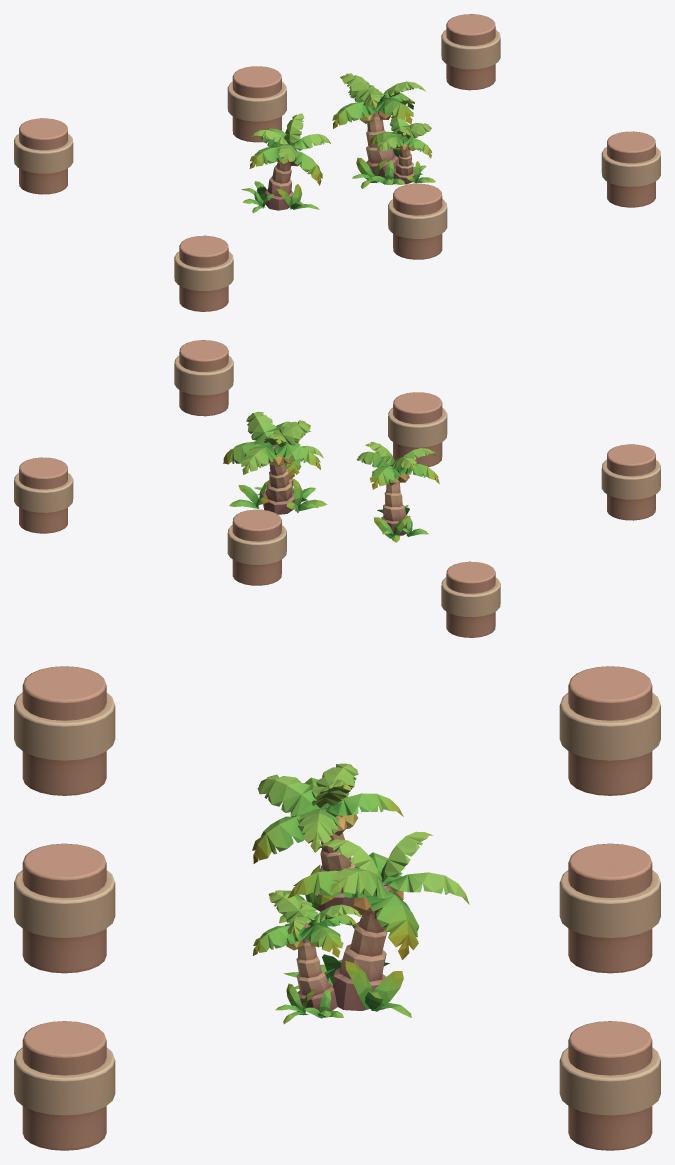
The model's file is Props.fbx.
The picture shows the model from 3 angles, top to bottom: view 1: azimuth 30°, elevation 25°; view 2: azimuth 150°, elevation 25°; view 3: azimuth 270°, elevation 25°; orthographic projection. The views are drawn at different scales.
Visible parts, largest first — view 1: yezishu01, yezishu02, Cylinder (1), Cylinder (5), Cylinder (4), Cylinder (6), Cylinder (3), Cylinder (2); view 2: yezishu01, Cylinder (2), Cylinder (6), Cylinder (3), Cylinder (5), Cylinder (4), Cylinder (1), yezishu02; view 3: yezishu01, Cylinder (3), Cylinder (4), Cylinder (1), Cylinder (2), Cylinder (5), Cylinder (6), yezishu02.
Part boxes in pixels (x1=…): yezishu01: x1=332, y1=73, x2=435, y2=188; yezishu02: x1=241, y1=113, x2=330, y2=213; Cylinder (1): x1=388, y1=183, x2=447, y2=259; Cylinder (5): x1=174, y1=235, x2=233, y2=311; Cylinder (4): x1=441, y1=14, x2=500, y2=90; Cylinder (6): x1=14, y1=118, x2=73, y2=194; Cylinder (3): x1=601, y1=131, x2=660, y2=207; Cylinder (2): x1=227, y1=66, x2=286, y2=142; yezishu01: x1=223, y1=411, x2=326, y2=514; Cylinder (2): x1=227, y1=509, x2=286, y2=585; Cylinder (6): x1=441, y1=561, x2=500, y2=637; Cylinder (3): x1=174, y1=340, x2=233, y2=416; Cylinder (5): x1=601, y1=444, x2=660, y2=520; Cylinder (4): x1=14, y1=457, x2=73, y2=533; Cylinder (1): x1=388, y1=392, x2=447, y2=467; yezishu02: x1=356, y1=442, x2=439, y2=542; yezishu01: x1=253, y1=831, x2=469, y2=1024; Cylinder (3): x1=14, y1=1021, x2=115, y2=1150; Cylinder (4): x1=559, y1=1021, x2=660, y2=1150; Cylinder (1): x1=14, y1=843, x2=115, y2=973; Cylinder (2): x1=559, y1=843, x2=660, y2=973; Cylinder (5): x1=14, y1=666, x2=115, y2=795; Cylinder (6): x1=559, y1=666, x2=660, y2=795; yezishu02: x1=252, y1=763, x2=403, y2=923.
Size of the model in its own units: 44.82 by 8.33 by 30.82.
